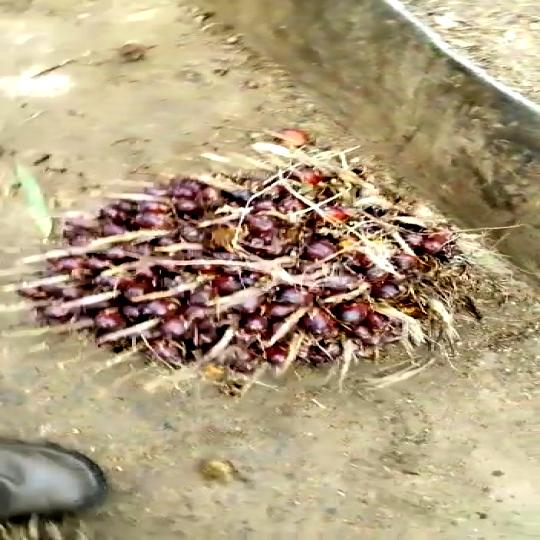kurang masak: (0, 138, 500, 397)
